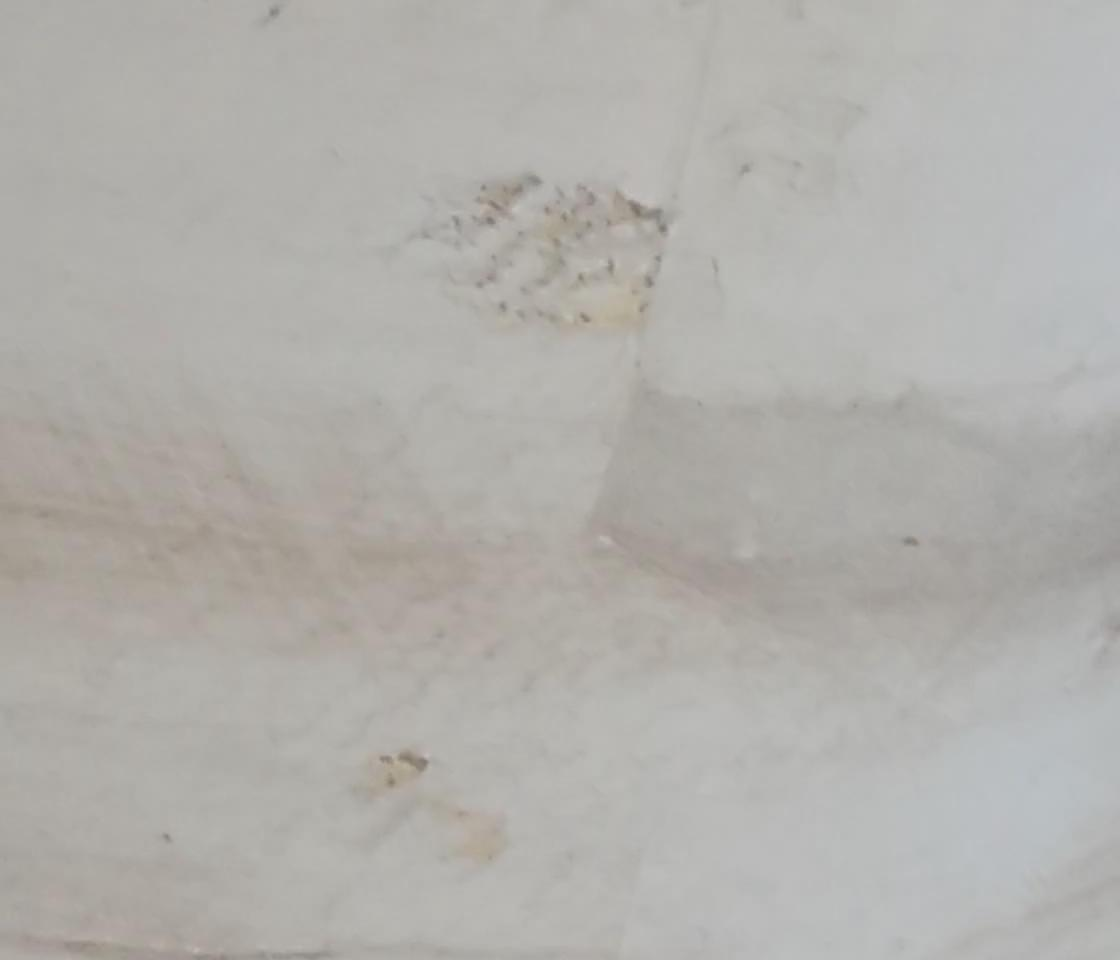scratch: (368, 748, 440, 774)
